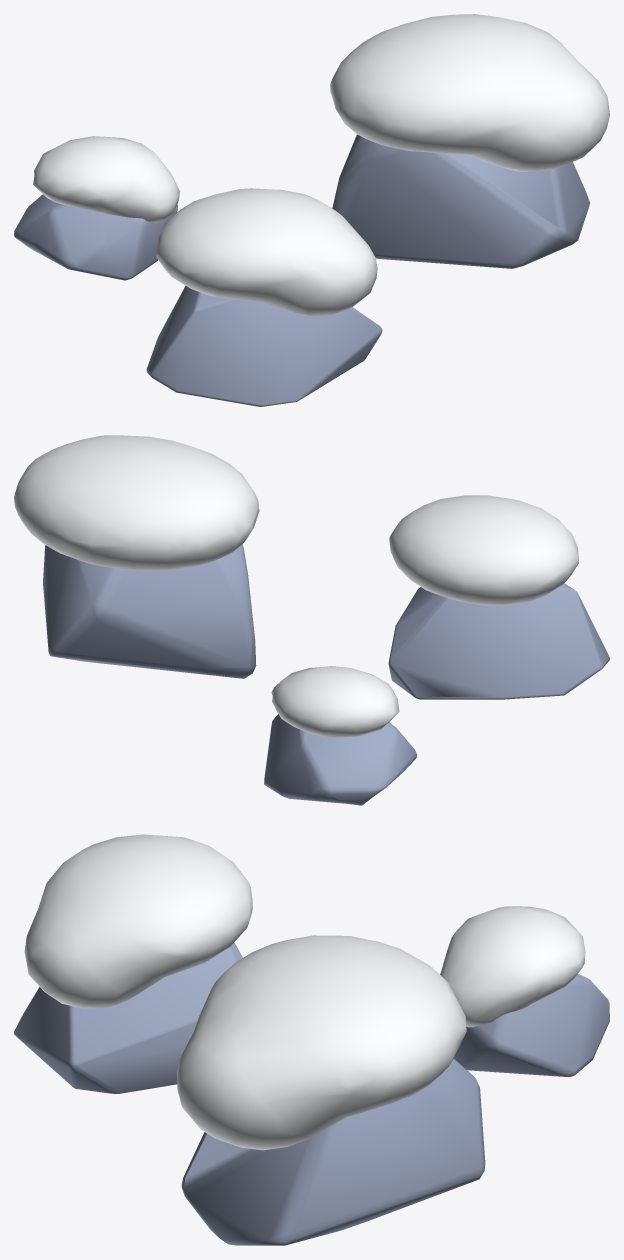
Rendered from snow_rock_b.glb.
3 renders of one model, top to bottom at view 1: azimuth 30°, elevation 25°; view 2: azimuth 150°, elevation 25°; view 3: azimuth 270°, elevation 25°, orthographic. The views are drawn at different scales.
Visible parts, largest first — view 1: BoulderSnow0, Boulder0, BoulderSnow2, Boulder2, BoulderSnow1, Boulder1; view 2: BoulderSnow0, Boulder0, Boulder2, BoulderSnow2, Boulder1, BoulderSnow1; view 3: BoulderSnow0, Boulder0, BoulderSnow2, Boulder2, BoulderSnow1, Boulder1.
Boxes of the visible parts, x1,y1,x2,y2 form: BoulderSnow0: (330,14,609,171); Boulder0: (332,134,590,268); BoulderSnow2: (156,188,377,316); Boulder2: (146,286,382,406); BoulderSnow1: (33,136,180,223); Boulder1: (14,194,177,280); BoulderSnow0: (14,435,259,571); Boulder0: (43,544,256,678); Boulder2: (388,583,609,699); BoulderSnow2: (389,495,578,605); Boulder1: (264,714,416,805); BoulderSnow1: (271,666,399,737); BoulderSnow0: (177,935,466,1150); Boulder0: (181,1058,485,1245); BoulderSnow2: (24,834,252,1008); Boulder2: (14,942,242,1093); BoulderSnow1: (440,906,585,1027); Boulder1: (454,974,609,1077).
Size of the model in its own units: 2.04 by 0.8037 by 1.74.
